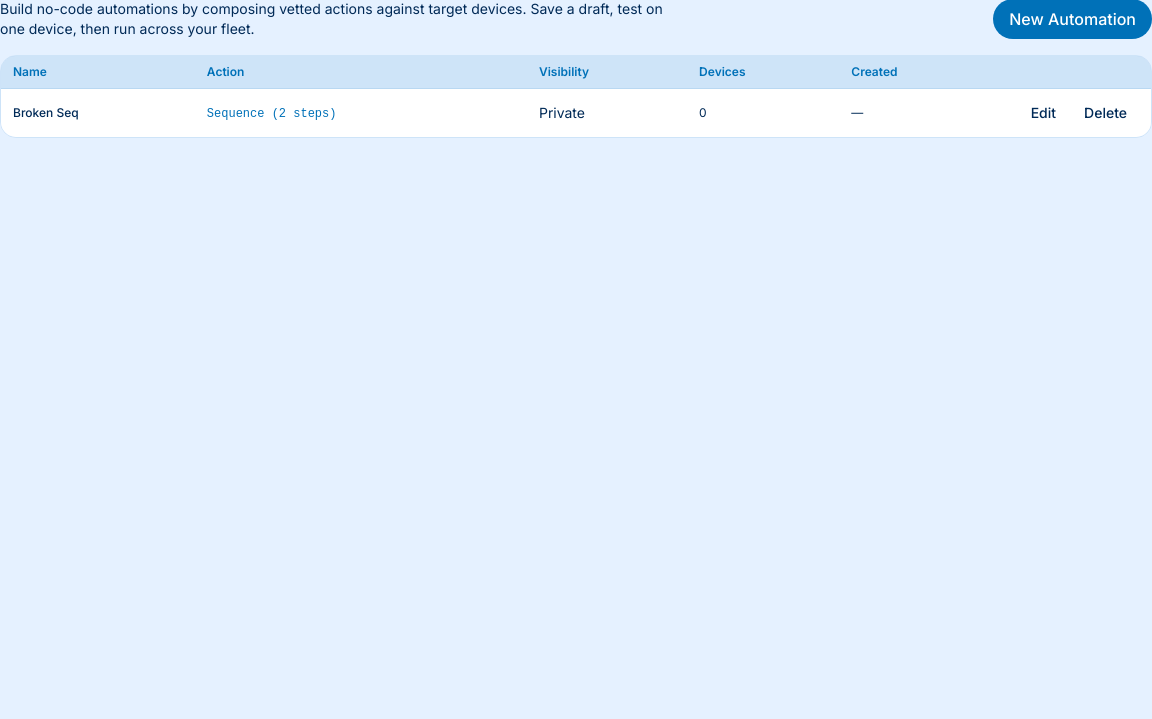
Test: AutomationBuilderPage — sequence mode UI › shows binding errors for invalid bindings on save
Expected: the text "Broken Seq" is shown, [13,105,79,120]
Click the button "Edit": x=1043, y=113 [1019,97,1068,129]
(page scrolled)
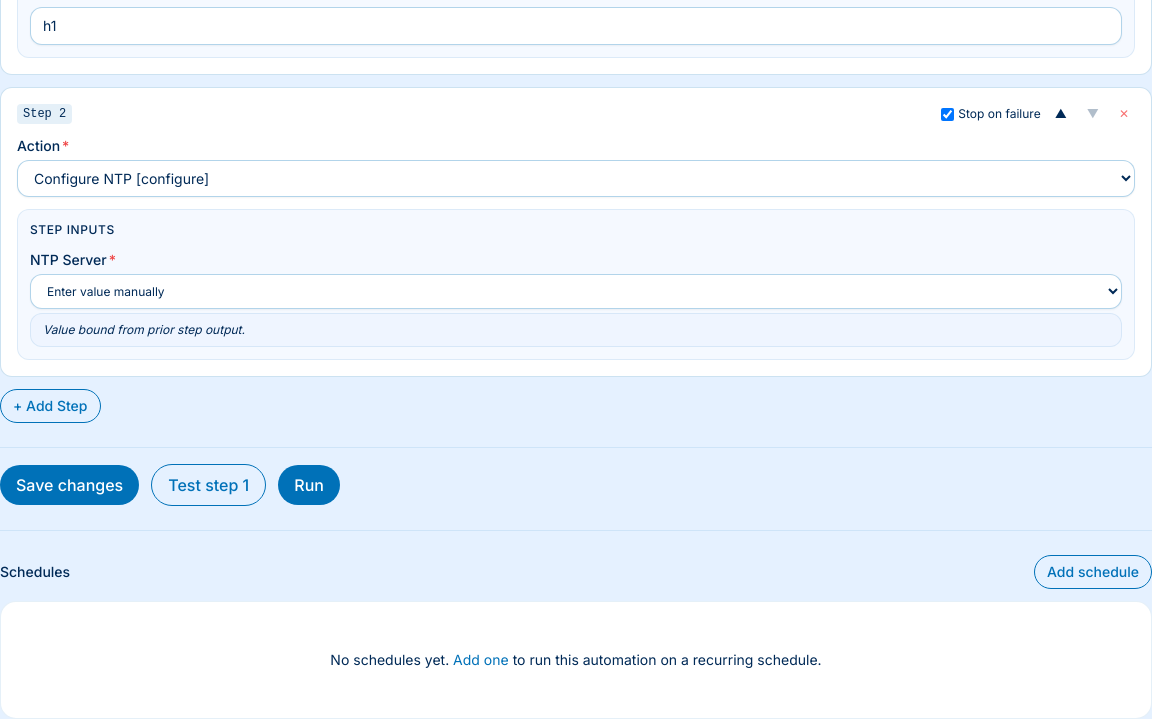
Now the text "Step 2" is shown, box [17,104,72,124]
# Try to save — validation should catch the invalid binding
Click the button "Save changes": x=70, y=485 [0,465,139,505]
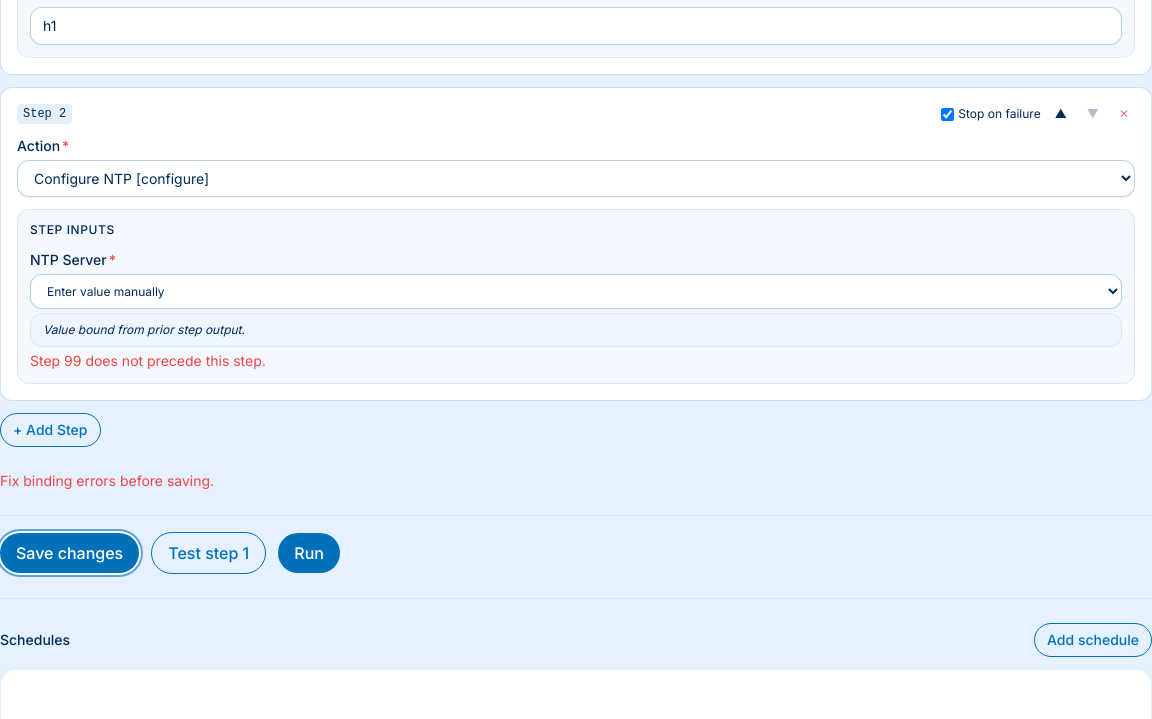
Now the text "Fix binding errors before saving." is shown, box [0,472,214,489]
